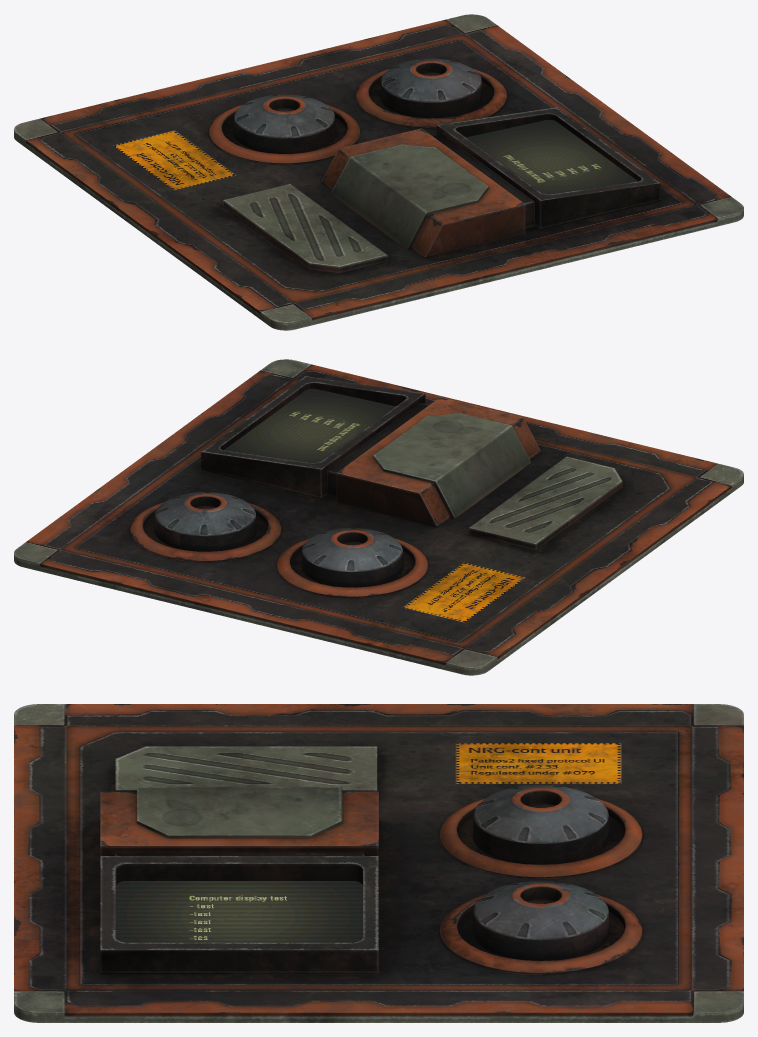
File: computer_floor.dae
The picture shows the model from 3 angles, top to bottom: view 1: azimuth 30°, elevation 25°; view 2: azimuth 150°, elevation 25°; view 3: azimuth 270°, elevation 25°; orthographic projection. The views are drawn at different scales.
Parts seen in each view (by area): view 1: computer_floor, computer_floor_display; view 2: computer_floor, computer_floor_display; view 3: computer_floor, computer_floor_display.
Boxes of the visible parts, x1,y1,x2,y2 form: computer_floor: [14, 14, 743, 330]; computer_floor_display: [466, 119, 637, 194]; computer_floor: [14, 359, 743, 675]; computer_floor_display: [224, 388, 395, 462]; computer_floor: [14, 704, 743, 1022]; computer_floor_display: [116, 881, 362, 942].
Size of the model in its own units: 150 by 12.19 by 150.
